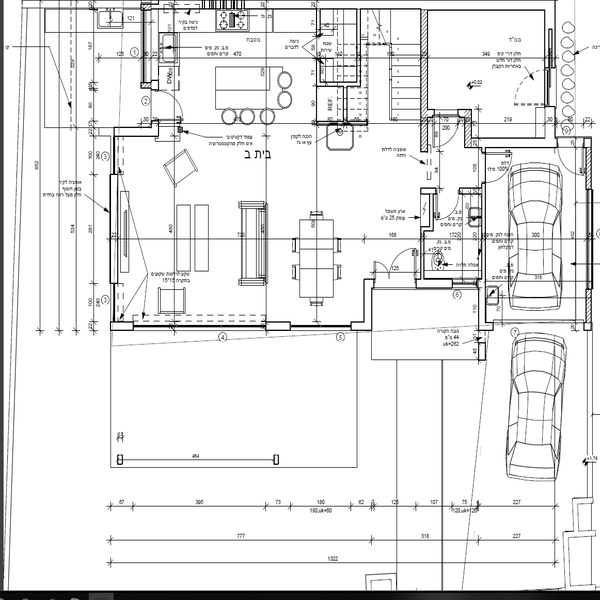door: (371, 253, 419, 293), (481, 144, 524, 188), (557, 136, 589, 183), (150, 90, 191, 125), (436, 178, 463, 225), (433, 111, 462, 150)
